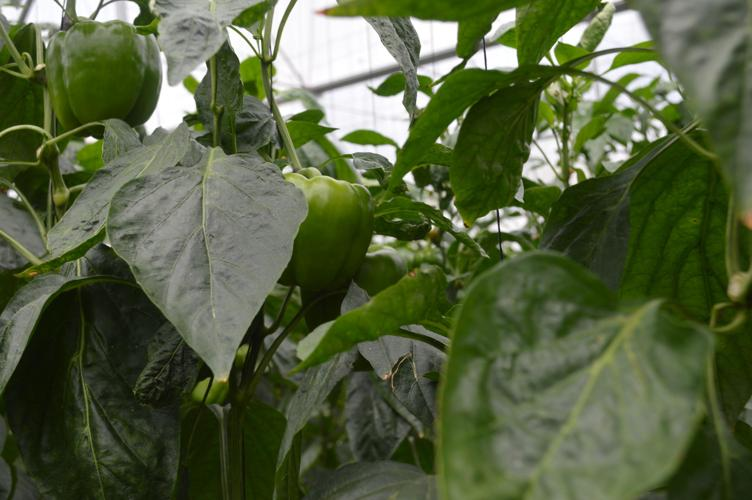BellPepper: (51, 22, 167, 143), (271, 176, 374, 290)
